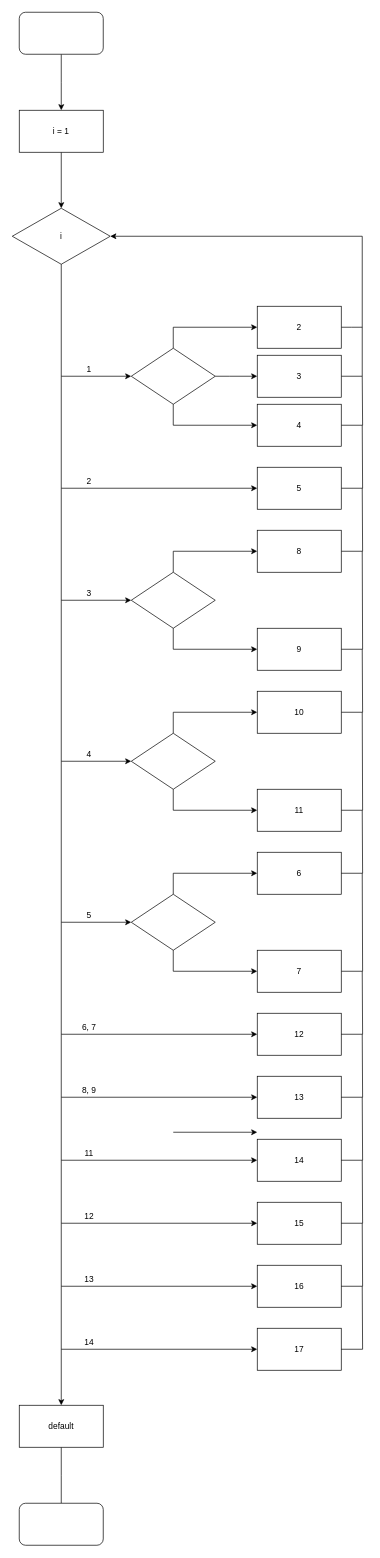
Image size: 380x1558. Some labels were removed from this diagram. The shapes that lost their labels are listed below. From the top down, each one's centre as x and y in pixels, then its label:
At (61,33): "Вход".
At (61,1524): "Конец".
